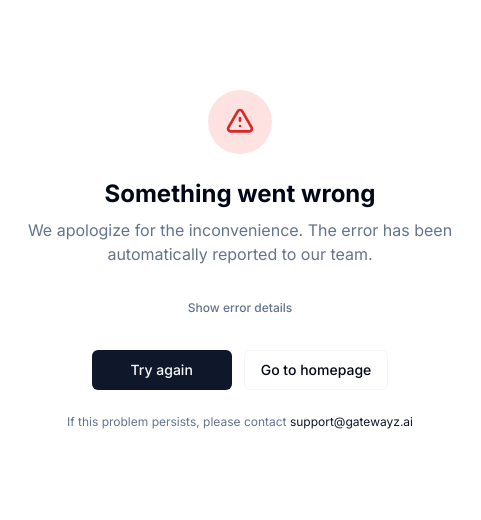
Scenario: GlobalError › should display error message when show details is clicked
# Click the "Show error details" button to reveal error details
Click the button "Show error details". click: [240, 308]
box: [176,290,304,326]
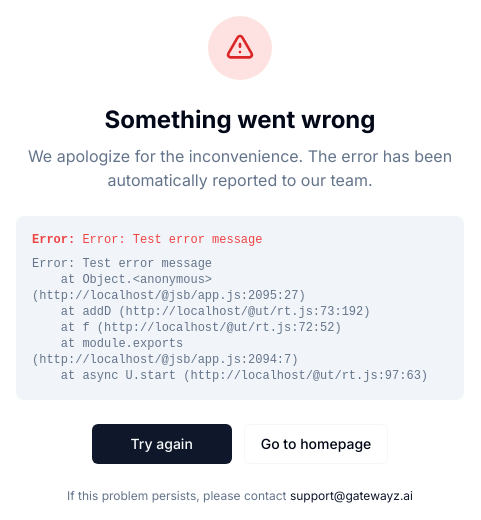
Result: the text "Error: Error: Test error message" is shown at [32,233,262,247]
